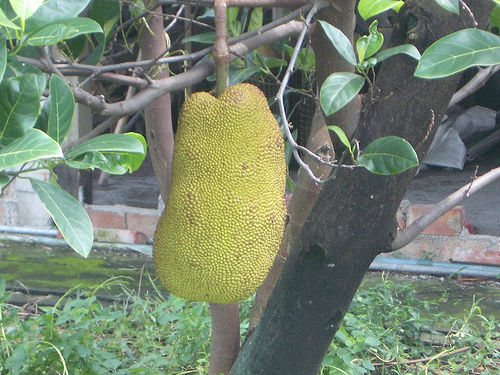jackfruit: (152, 83, 286, 304)
